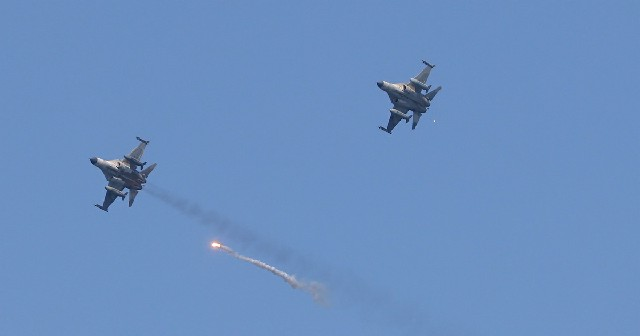maybay_khongnguoilai: (88, 136, 157, 215), (369, 59, 441, 134)
